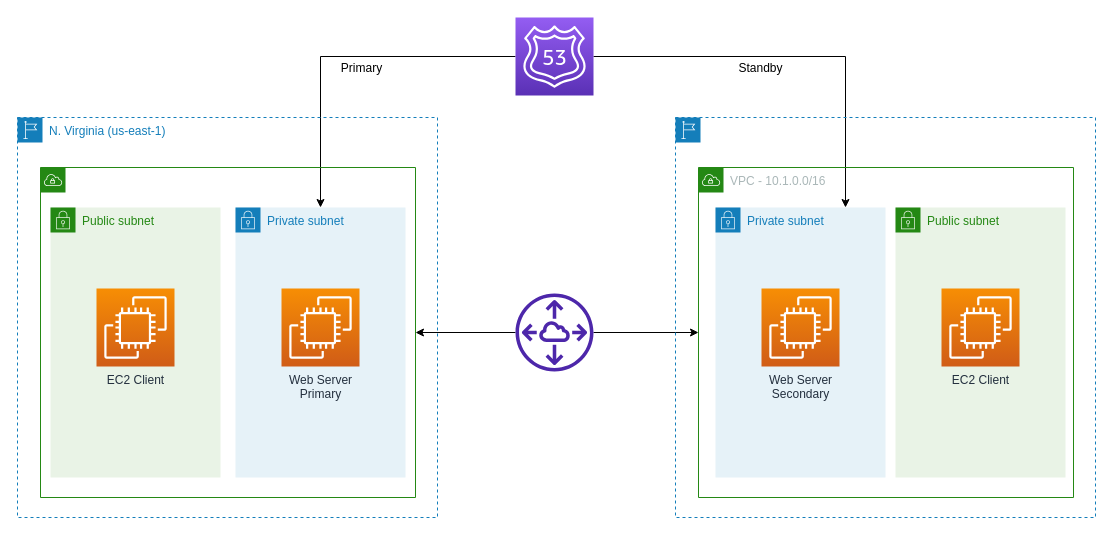
Image size: 1113x535. Some labels were removed from this diagram. The shapes that lost their labels are listed below. From the top down, each one's box as (x1, y1, x2, y2) in pixels, then its label:
(514, 16, 594, 96): Private Hosted Zone
(40, 166, 416, 498): VPC - 10.0.0.0/16
(515, 293, 593, 371): VPC Peering
(674, 116, 1096, 518): N. California (us-west-1)
